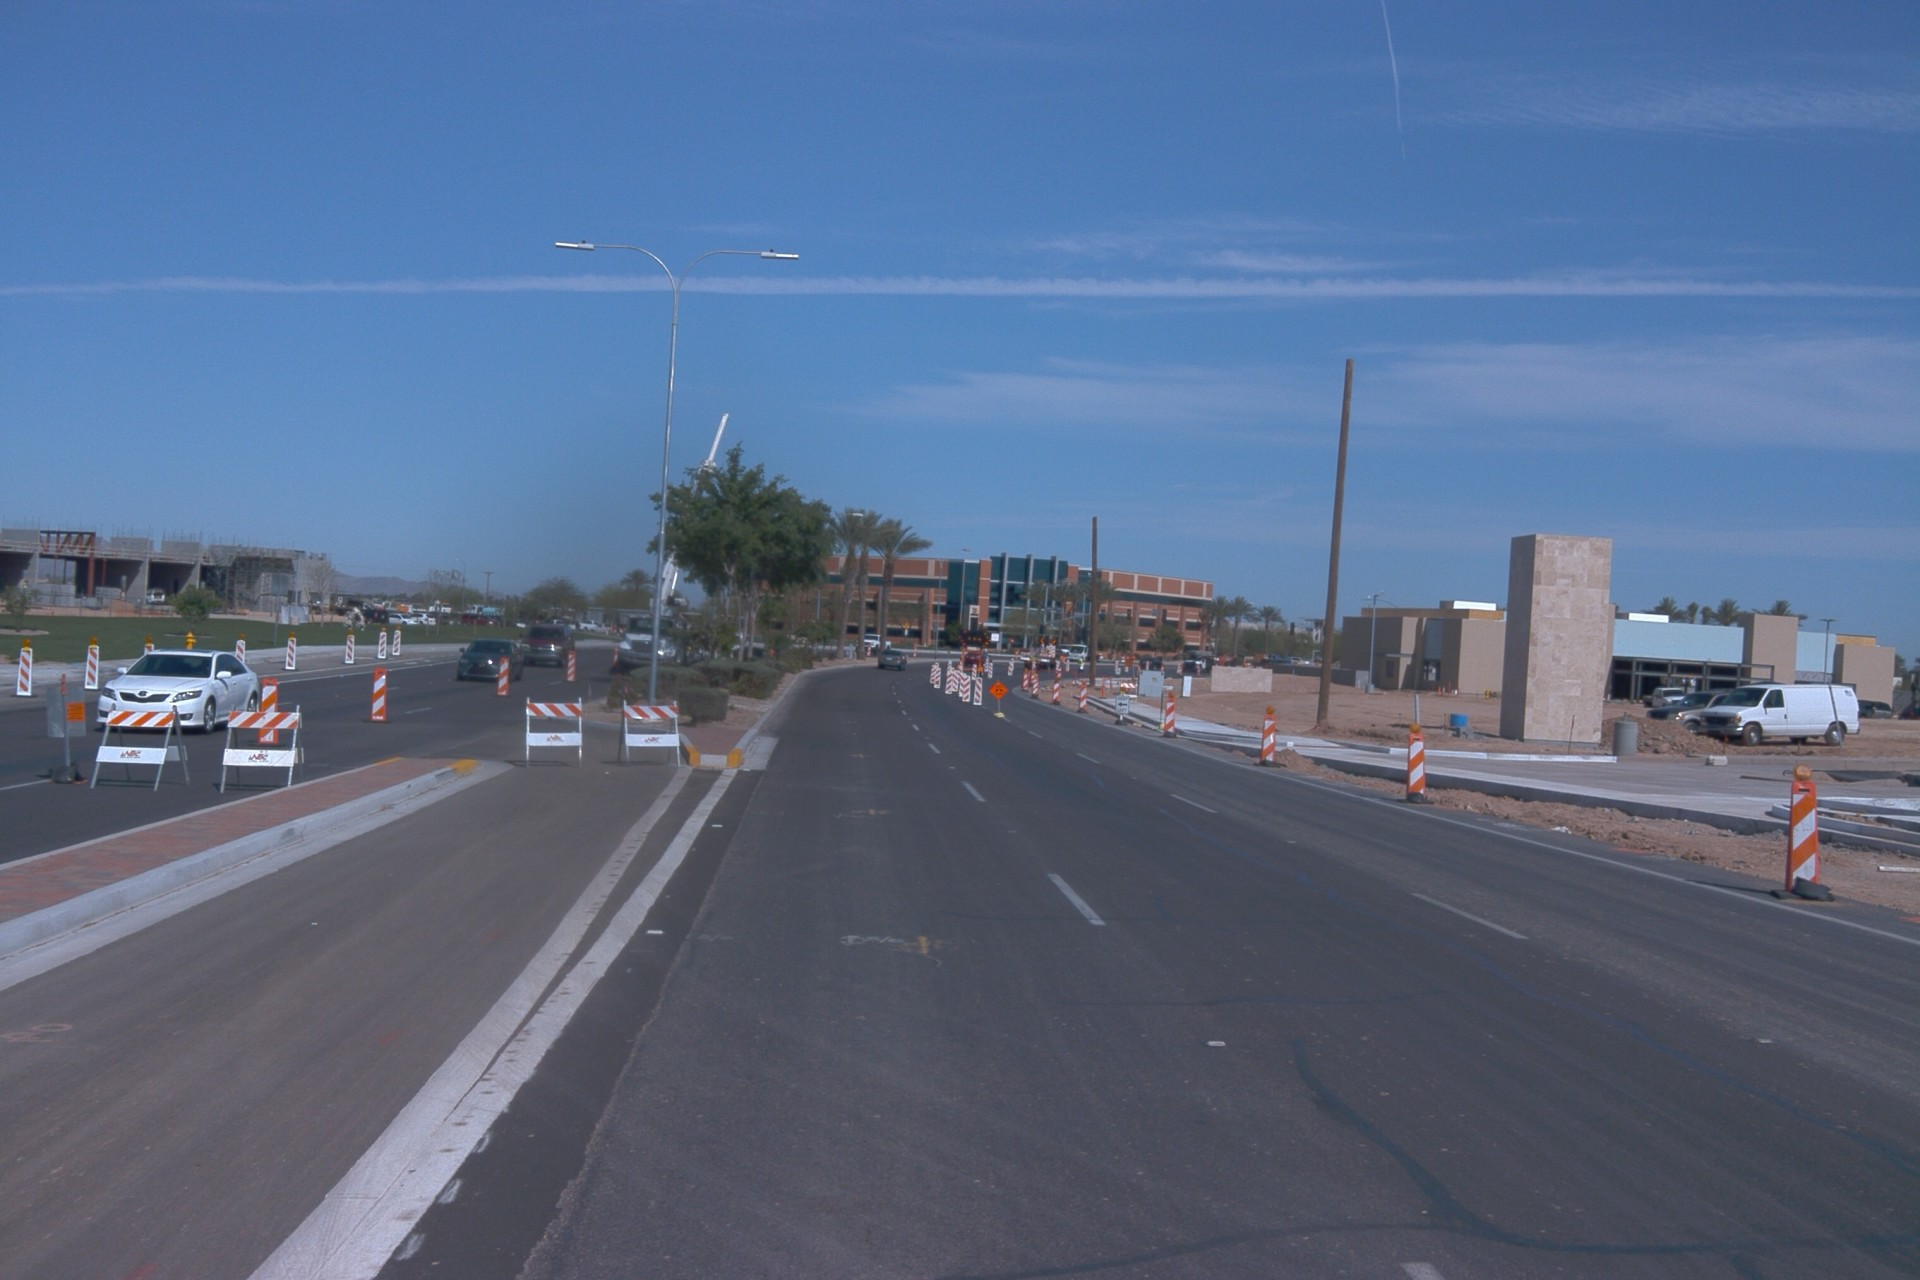TYPE_PEDESTRIAN: (1077, 657, 1085, 674)
TYPE_VEHICLE: (608, 406, 737, 693), (94, 647, 262, 731), (1695, 684, 1863, 751), (1645, 689, 1734, 733), (513, 618, 575, 670), (456, 637, 523, 682), (950, 625, 995, 685), (1017, 640, 1062, 673), (1181, 652, 1233, 679), (1645, 681, 1691, 709), (1066, 641, 1106, 665), (332, 597, 375, 619), (456, 611, 501, 632), (1071, 642, 1106, 667), (853, 635, 891, 656), (876, 648, 909, 672), (1857, 699, 1894, 718), (356, 605, 392, 624), (429, 612, 465, 628), (387, 614, 419, 631), (548, 617, 580, 633), (147, 587, 167, 610), (410, 611, 438, 627), (1895, 703, 1920, 720), (964, 650, 983, 669), (1262, 654, 1293, 664)
